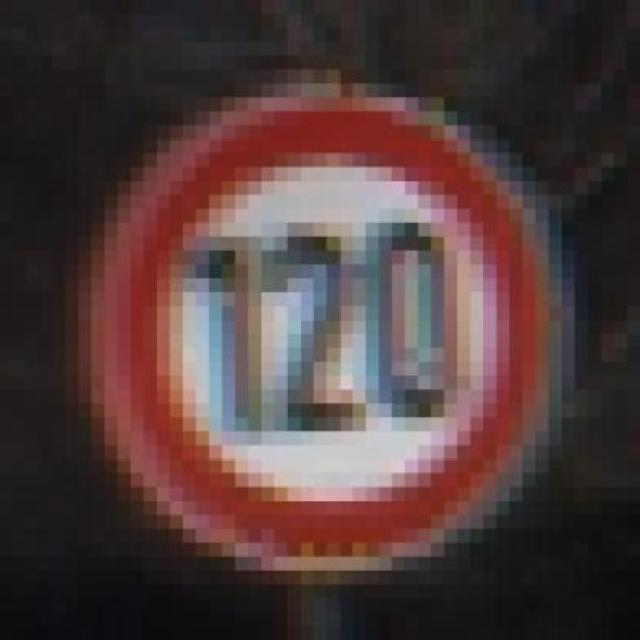forb_speed_over_120: (123, 98, 549, 560)
